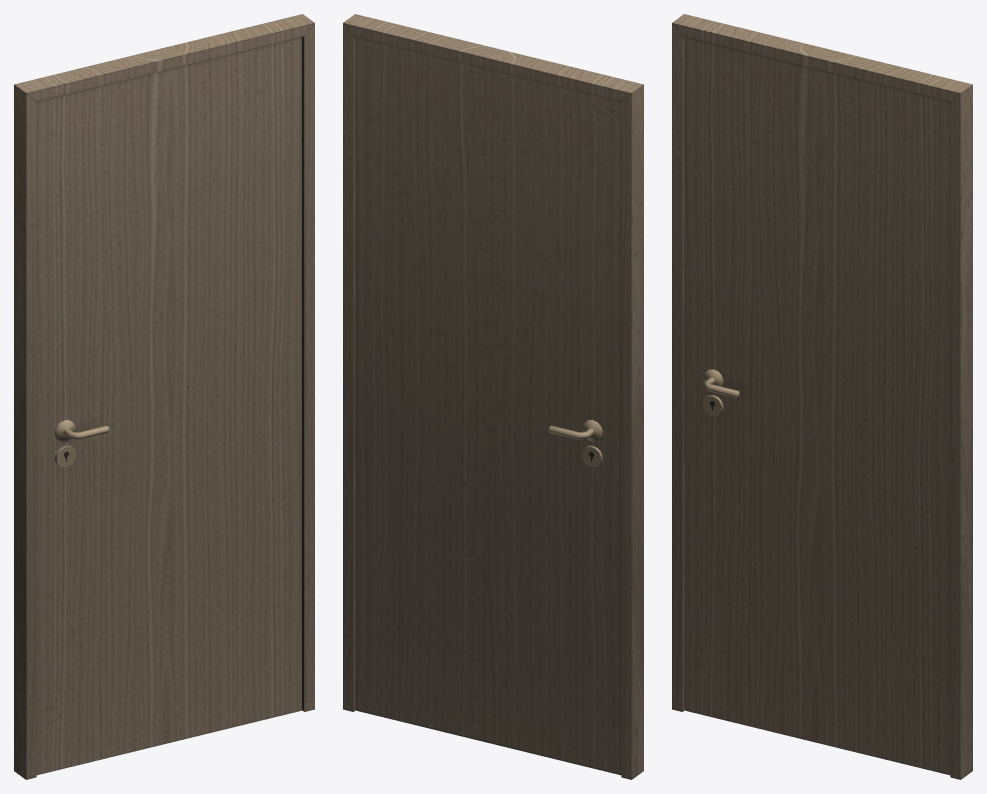
The model's file is Door_SingleWood.gltf.
The picture shows the model from 3 angles, left to right: view 1: azimuth 30°, elevation 25°; view 2: azimuth 150°, elevation 25°; view 3: azimuth 330°, elevation 25°; orthographic projection.
Visible parts, largest first — view 1: Door_SingleWood; view 2: Door_SingleWood; view 3: Door_SingleWood.
Part boxes in pixels (x1=…): Door_SingleWood: x1=14, y1=14, x2=314, y2=779; Door_SingleWood: x1=343, y1=14, x2=643, y2=779; Door_SingleWood: x1=672, y1=14, x2=972, y2=779.
Bounding box in the file's own units: 11 × 25 × 2.05.
1 material, 1 textured.
